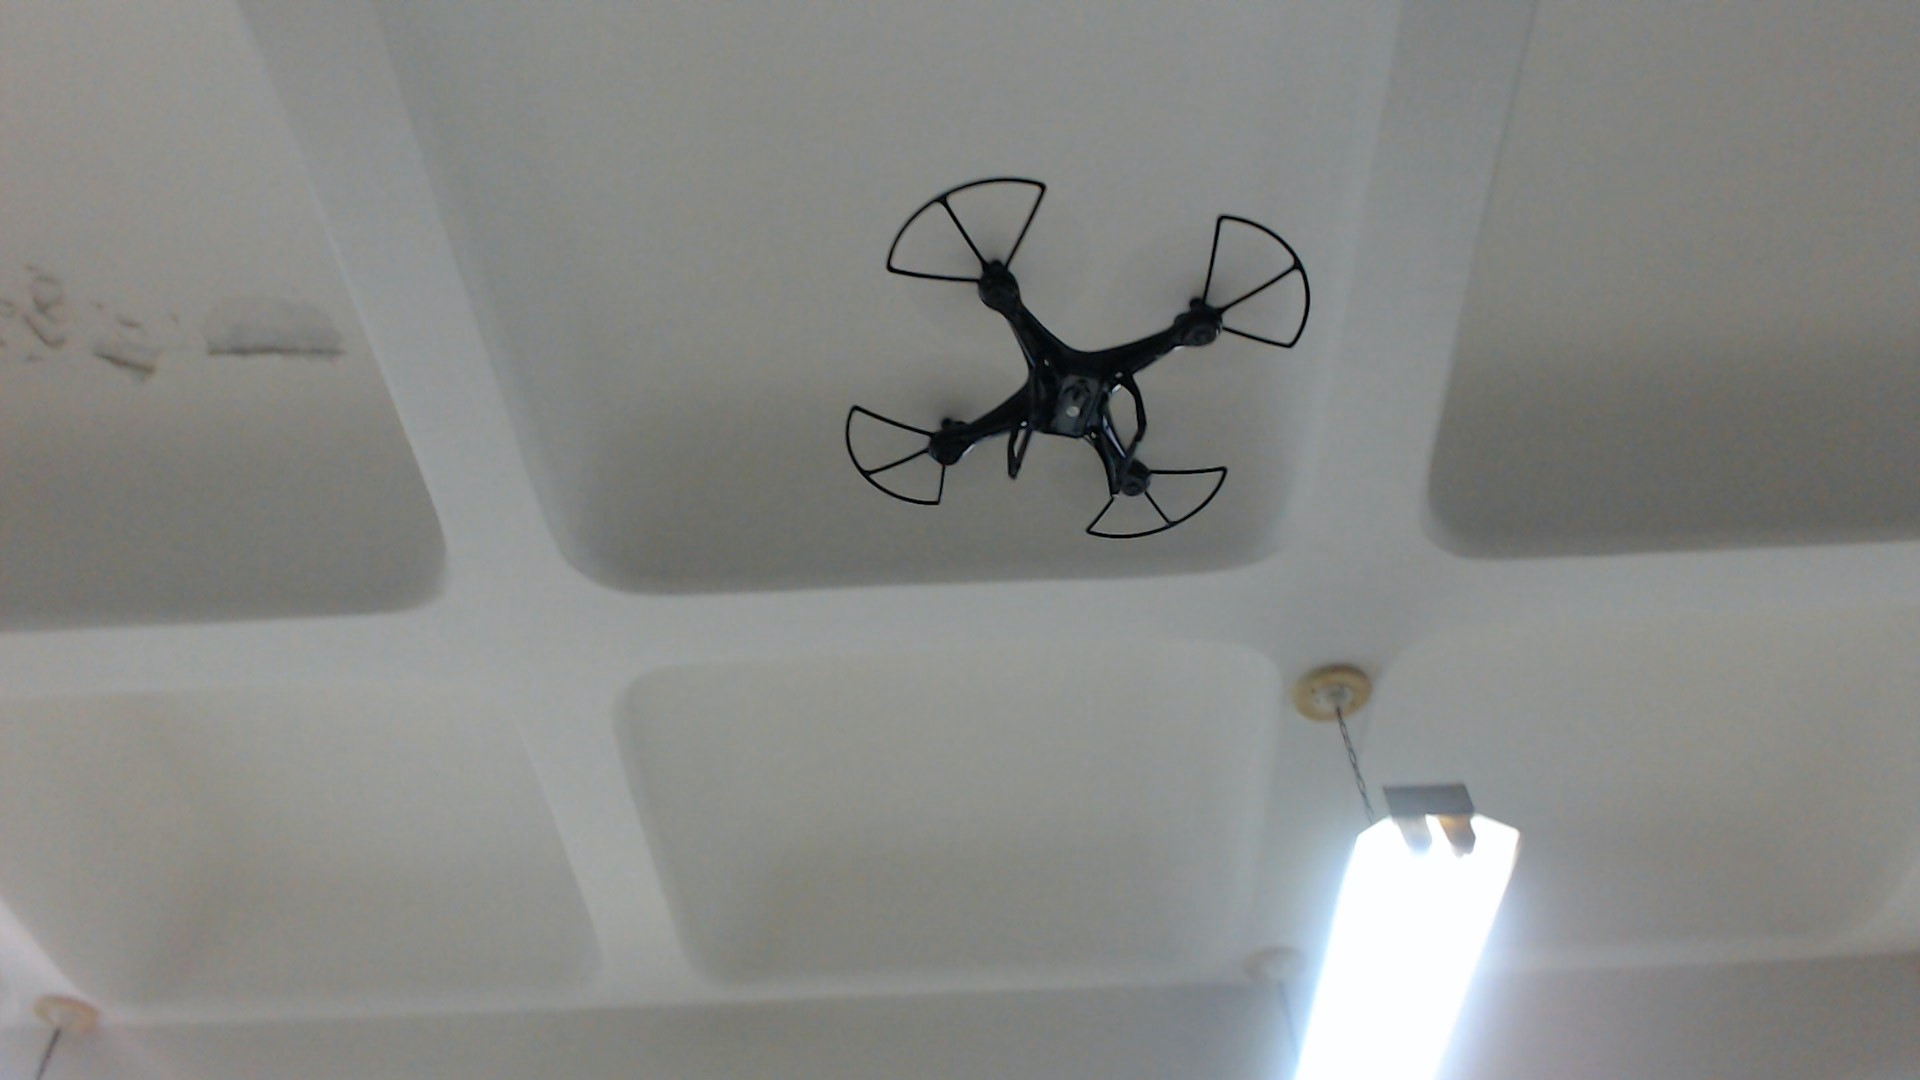drone: (844, 174, 1316, 546)
